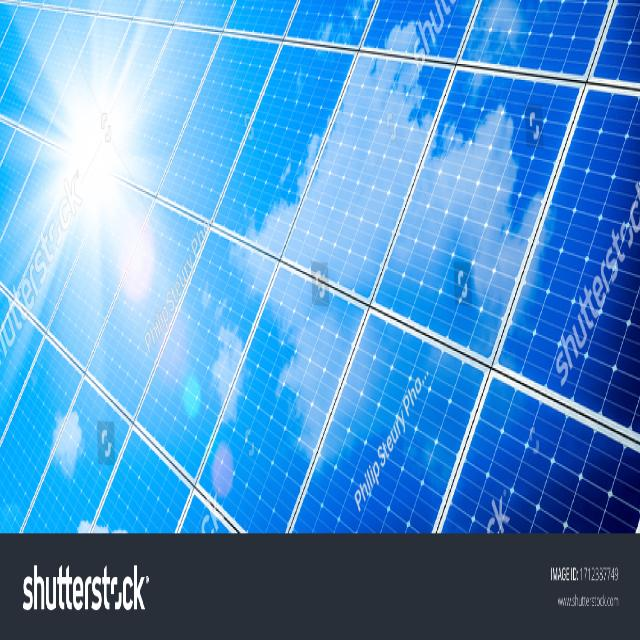clean-solar-panel: (0, 0, 640, 531)
